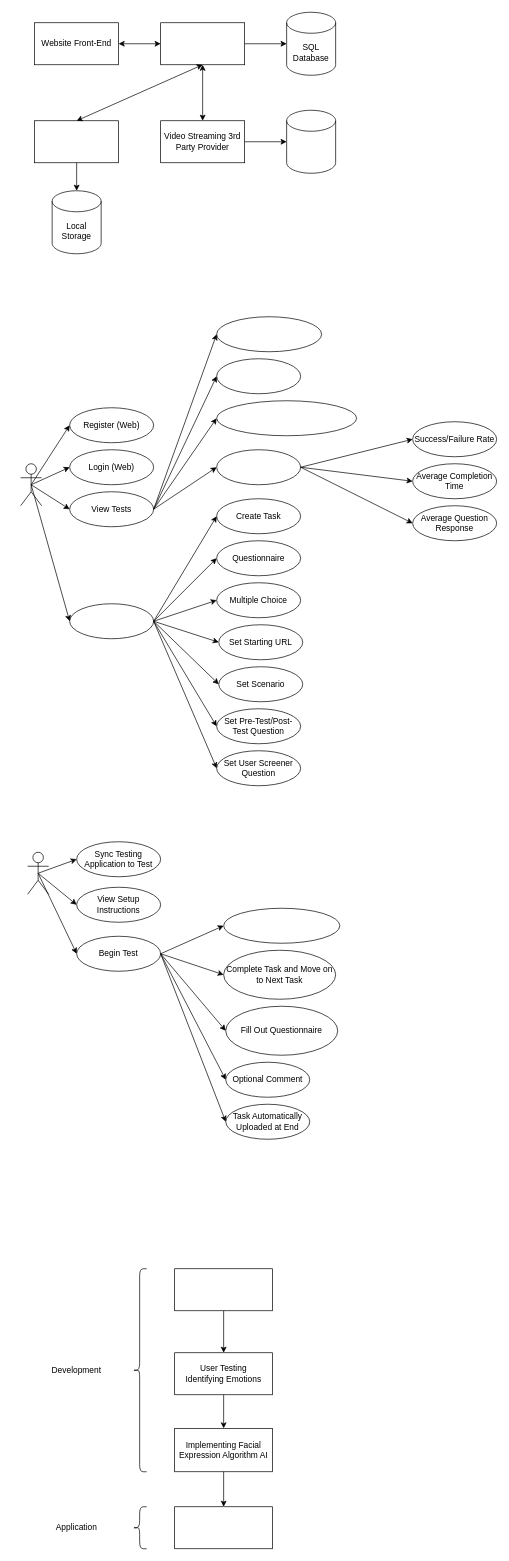
Some shapes in this 509 by 1561 pixel diagram are drawn without their labels. The centre of each missing label's shape, as x and y in pixels:
Backend: the point at 202,43
Create Test: the point at 111,621
Developer: the point at 31,484
Expand/Minimize Test Case Instructions: the point at 281,925
Identify Emotions: the point at 223,1289
Local Python Application: the point at 76,141
Tester: the point at 38,873
Usability Testing: the point at 223,1527
Video Steaming DB: the point at 311,141
View Analytics: the point at 258,467
View Face Recording With Audio: the point at 286,418
View Facial Expression Timeline: the point at 269,334
View Screen Recording: the point at 258,376
